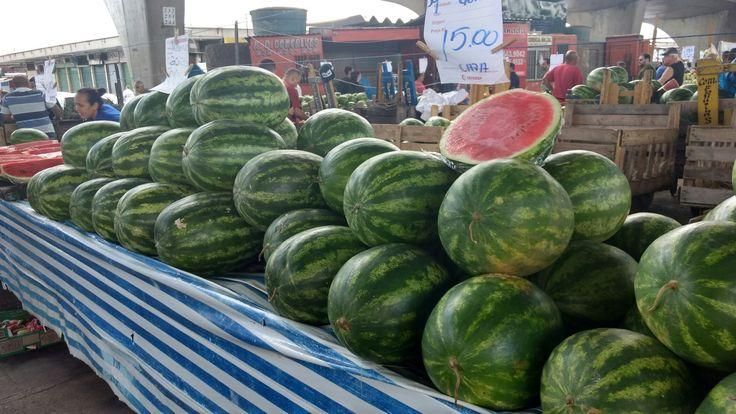watermelon: (268, 129, 630, 414), (542, 164, 736, 414), (41, 64, 291, 236), (243, 113, 403, 239)
